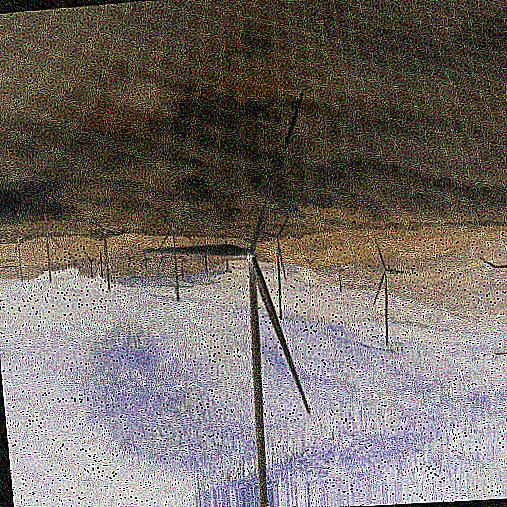wind turbine: (142, 89, 309, 488), (370, 238, 412, 347)
